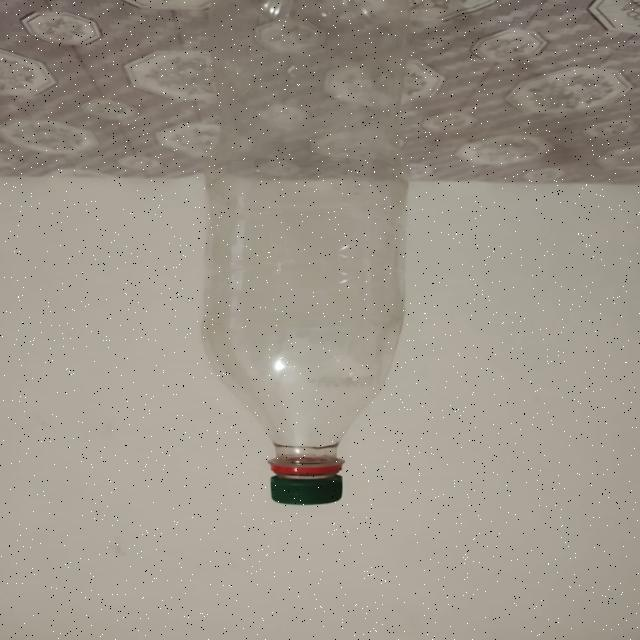bottle: (202, 0, 412, 507)
cap: (268, 463, 343, 505)
